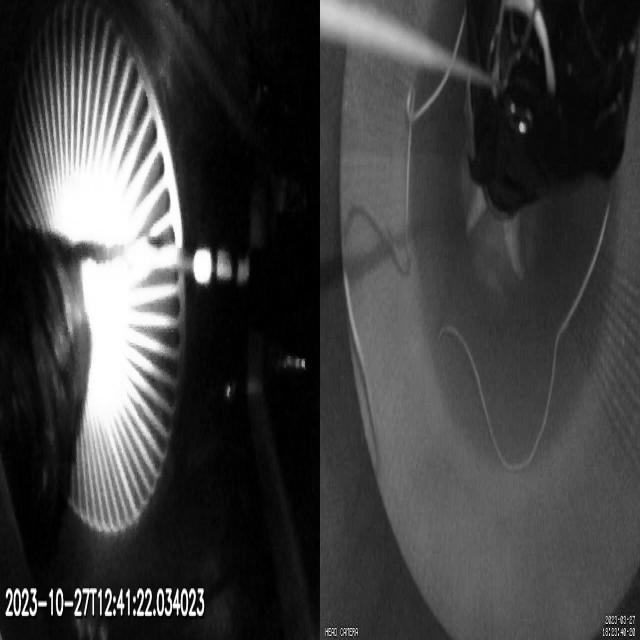white-dots: (193, 246, 250, 285)
